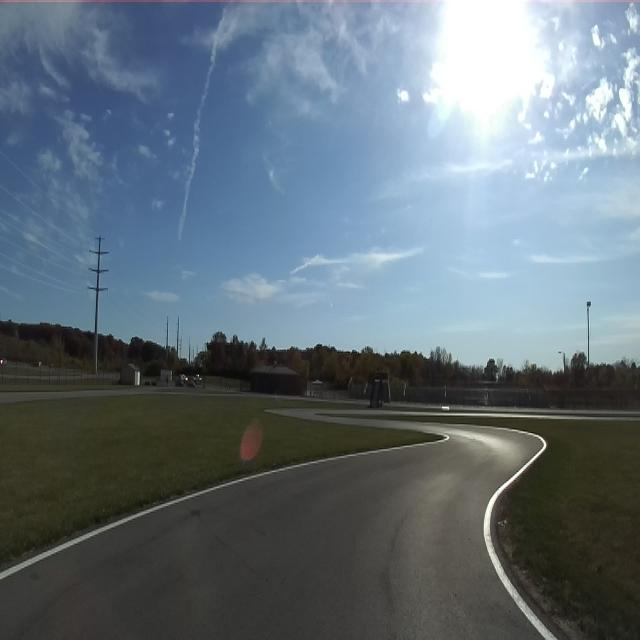white-line: (0, 435, 450, 581), (484, 430, 557, 639)
